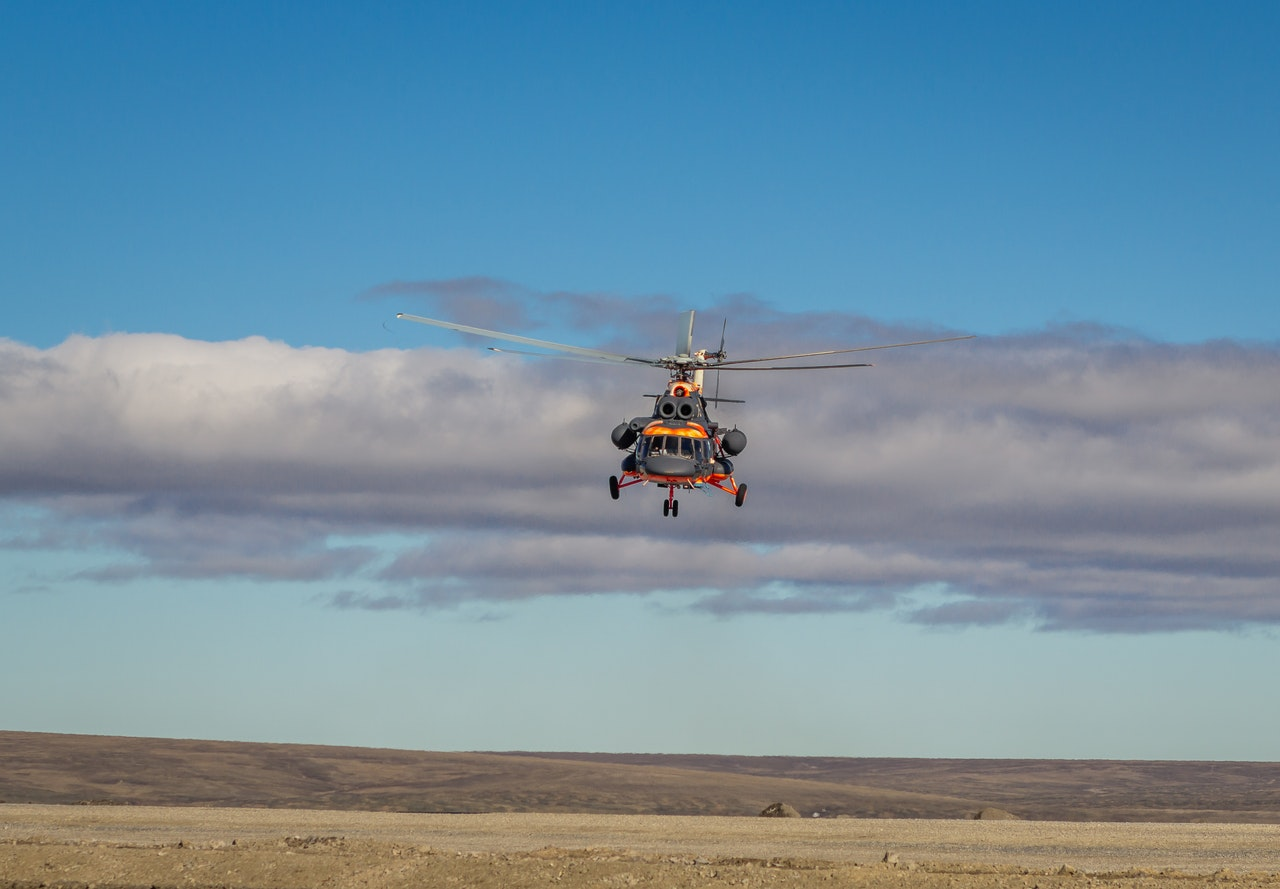heli: (387, 306, 974, 517)
